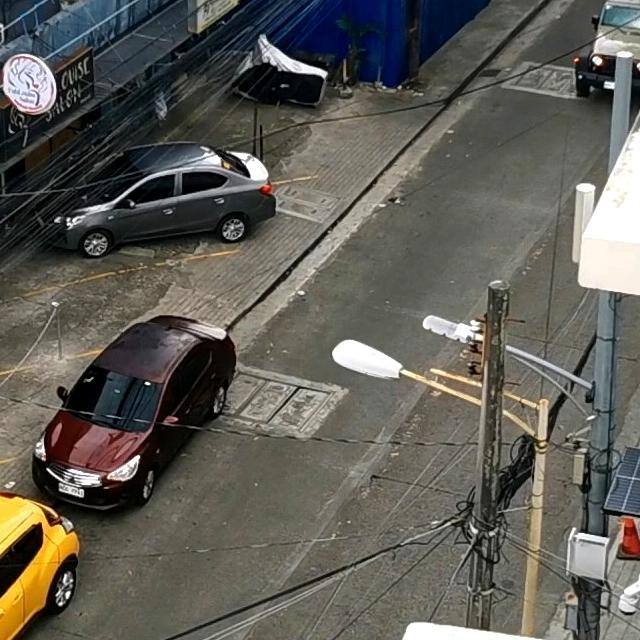Car: (34, 316, 240, 504), (40, 155, 274, 259), (0, 482, 78, 640), (581, 0, 640, 98)
